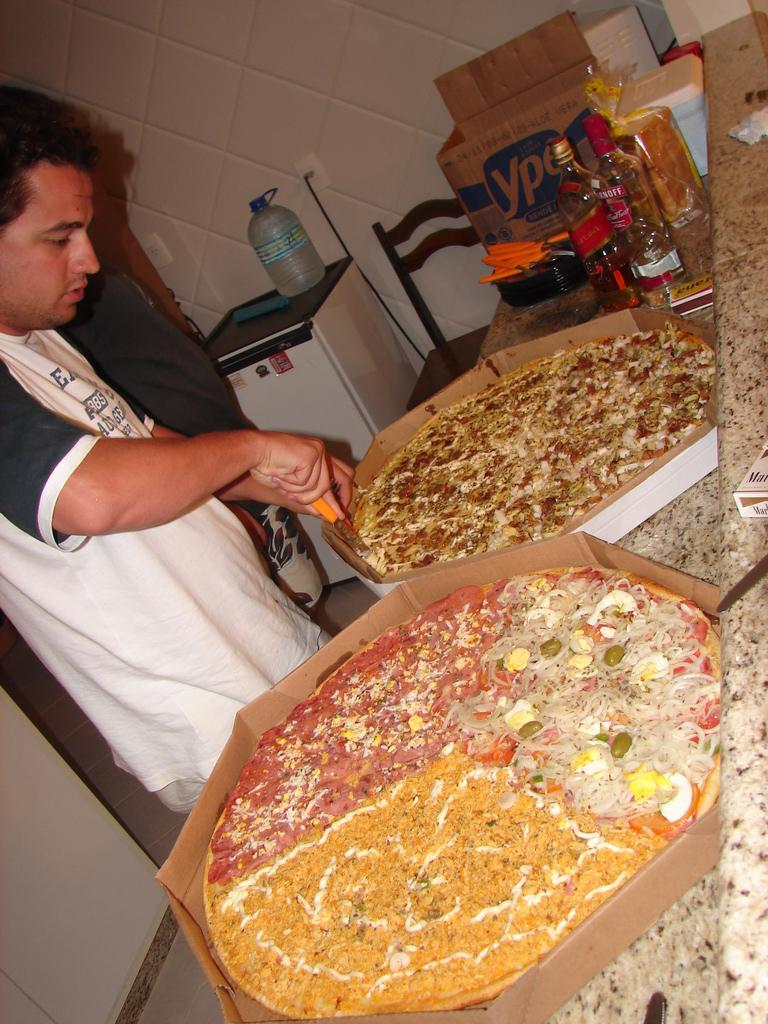Pizza: (180, 576, 741, 1024), (348, 337, 720, 576)
